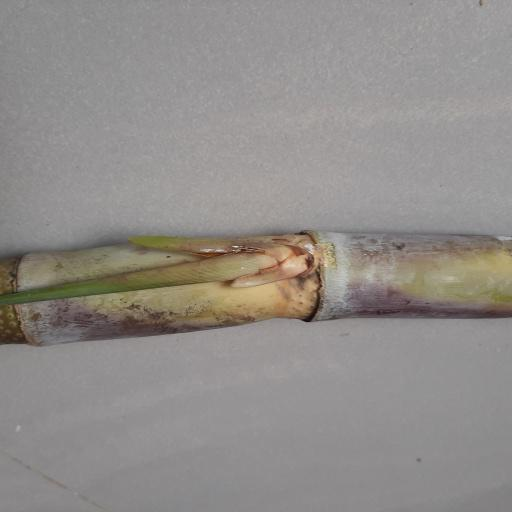Sprouted_Bud: (217, 233, 316, 288)
